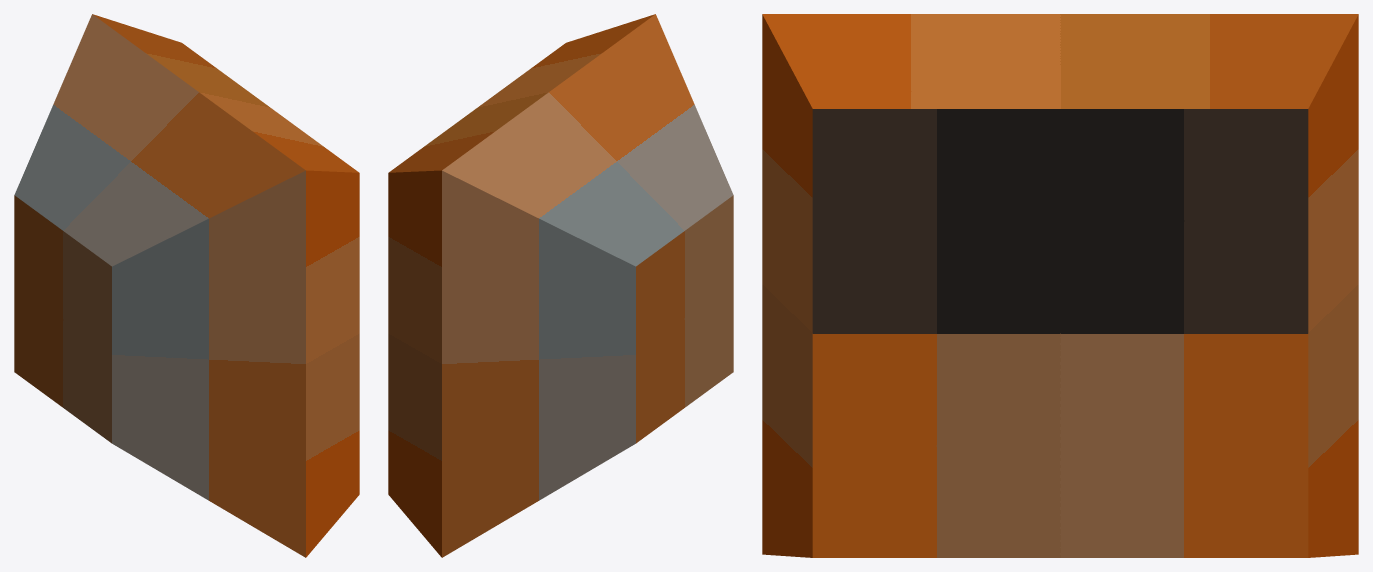
The model's file is Mine.obj.
3 renders of one model, left to right at view 1: azimuth 30°, elevation 25°; view 2: azimuth 150°, elevation 25°; view 3: azimuth 270°, elevation 25°, orthographic. The views are drawn at different scales.
Visible parts, largest first — view 1: Mine; view 2: Mine; view 3: Mine.
Part boxes in pixels (left/top/right/bottom): Mine: left=14, top=14, right=359, bottom=557; Mine: left=388, top=14, right=733, bottom=557; Mine: left=762, top=14, right=1358, bottom=557.
Size of the model in its own units: 6.75 by 12.04 by 12.04.
